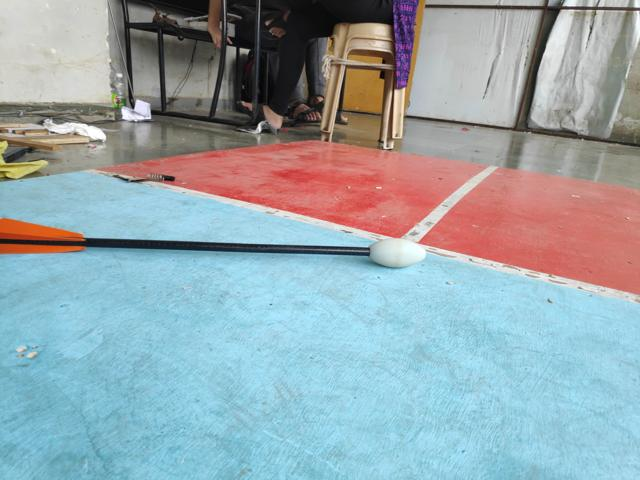Head: (365, 234, 430, 272)
Tail: (1, 215, 88, 255)
